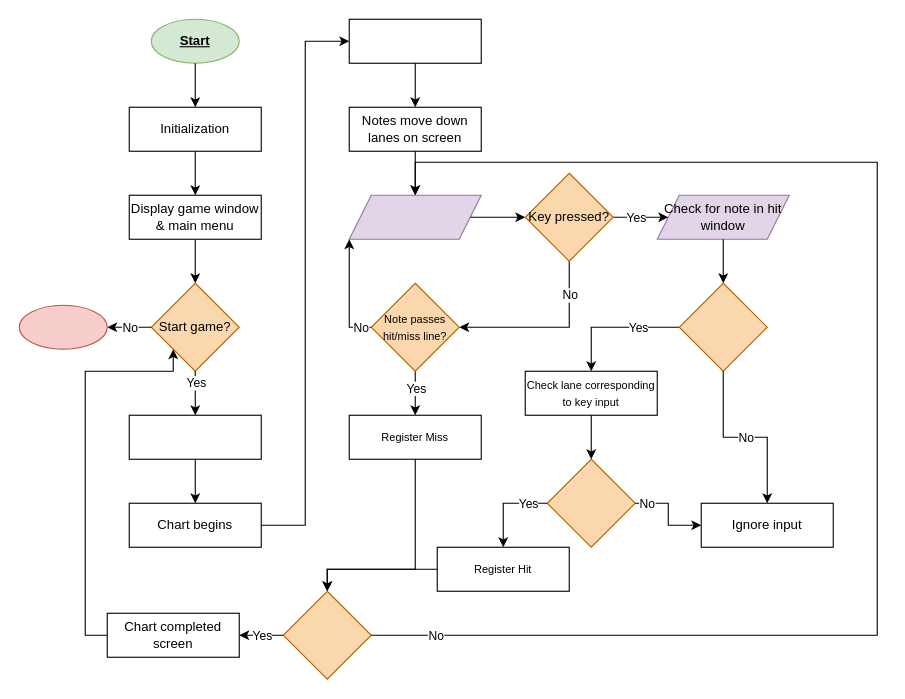
Image size: 905x699. Some labels were removed from this diagram. Here are the shapes that lost their labels. From the top down, the box of each, then its label:
(348, 18, 481, 63): Notes spawn in lanes according to chart map
(348, 194, 481, 239): Check for keyboard input
(18, 304, 107, 349): End
(678, 282, 767, 371): Note in hit window?
(128, 414, 261, 459): Chart loads
(546, 458, 635, 547): Input & note in same lane ?
(282, 590, 371, 679): Chart finished?
